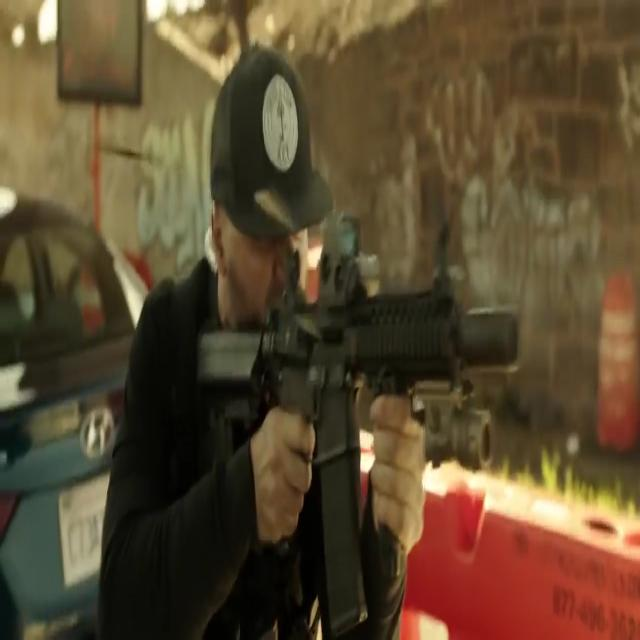Weapon: (174, 269, 526, 602)
